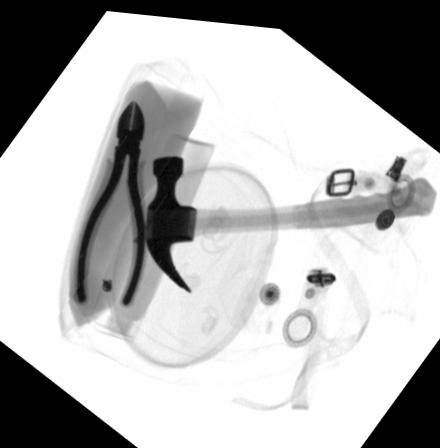Hammer: (145, 150, 437, 286)
Pliers: (69, 97, 148, 305)
